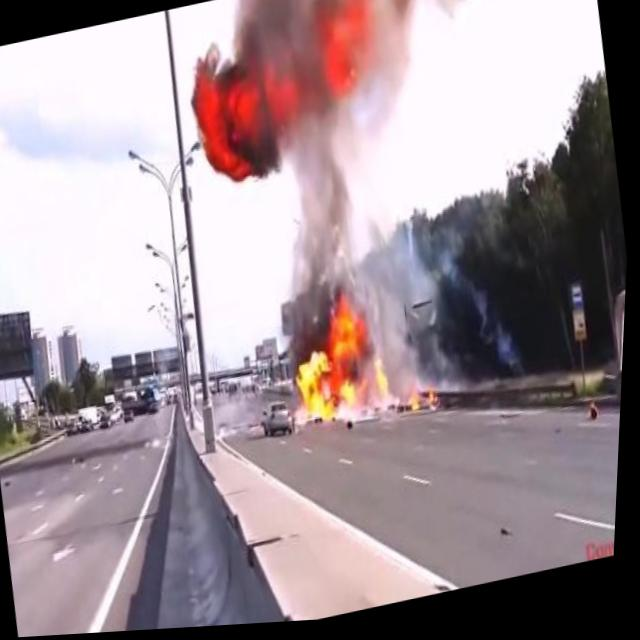fire: (277, 274, 452, 448), (179, 26, 336, 206)
